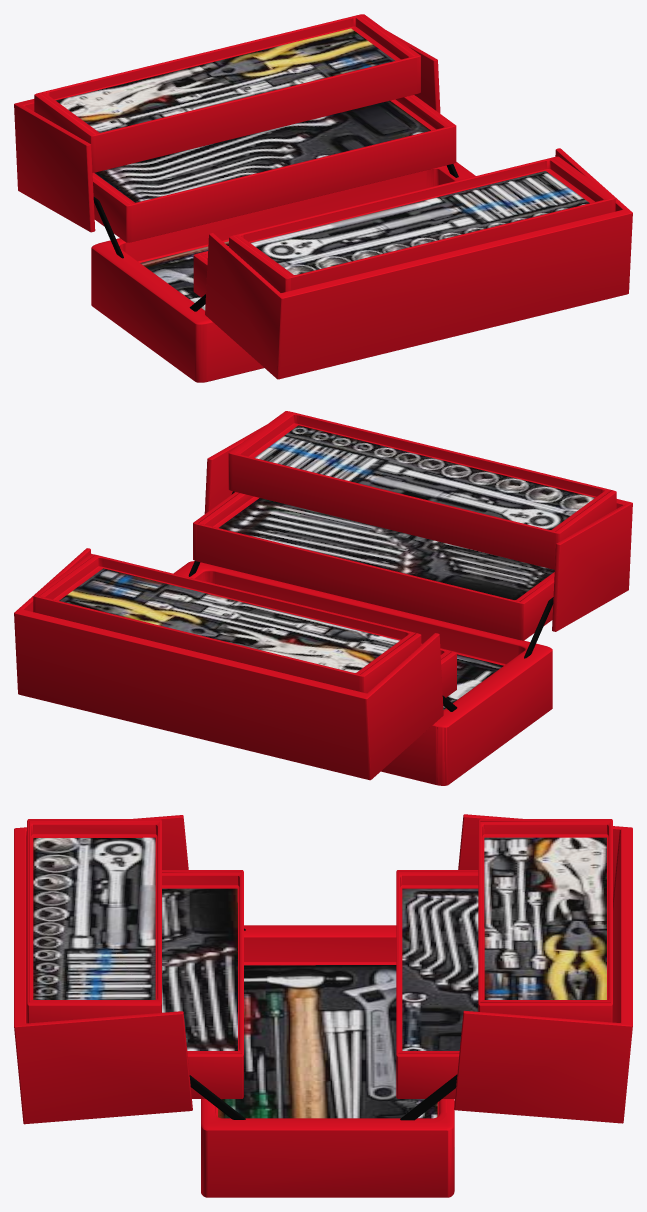
Rendered from optimized-preserved.fbx.
3 renders of one model, top to bottom at view 1: azimuth 30°, elevation 25°; view 2: azimuth 150°, elevation 25°; view 3: azimuth 270°, elevation 25°, orthographic. The views are drawn at different scales.
Visible parts, largest first — view 1: Cube.005, Cube.002, Cube.001, Cube.003, Cube.015, Cube.014, Cube.004; view 2: Cube.014, Cube.003, Cube.004, Cube.002, Cube.015, Cube.005, Cube.001; view 3: Cube.015, Cube.003, Cube.002, Cube.014, Cube.005, Cube.001, Cube.004, Cube.006, Cube.009.
Part boxes in pixels (box(x1,y1,x2,y2)): Cube.005: box(205, 148, 632, 379); Cube.002: box(34, 14, 420, 172); Cube.001: box(92, 95, 456, 242); Cube.003: box(229, 156, 615, 292); Cube.015: box(91, 162, 475, 382); Cube.014: box(14, 30, 440, 232); Cube.004: box(193, 246, 228, 297); Cube.014: box(14, 548, 443, 780); Cube.003: box(228, 411, 616, 569); Cube.004: box(193, 492, 554, 640); Cube.002: box(33, 554, 421, 693); Cube.015: box(173, 561, 552, 785); Cube.005: box(204, 425, 632, 631); Cube.001: box(421, 643, 456, 697); Cube.015: box(201, 925, 454, 1197); Cube.003: box(27, 819, 161, 1023); Cube.002: box(478, 819, 612, 1022); Cube.014: box(454, 814, 632, 1123); Cube.005: box(14, 815, 192, 1124); Cube.001: box(396, 870, 478, 1098); Cube.004: box(162, 870, 243, 1098); Cube.006: box(400, 1074, 457, 1120); Cube.009: box(189, 1075, 245, 1119).
Bounding box in the file's own units: 32.91 × 13.76 × 42.01.
20 materials, 5 textured.
